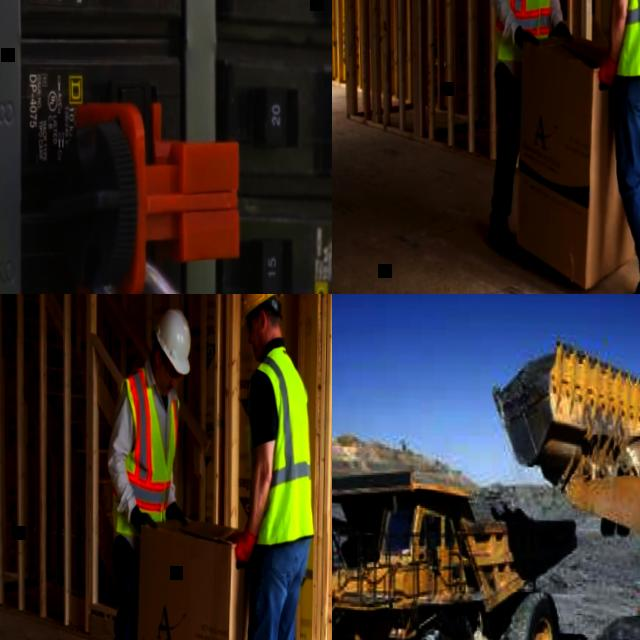Hardhat: (155, 307, 192, 373), (239, 294, 282, 321)
NO-Mask: (248, 332, 263, 361), (158, 378, 168, 398)
Person: (228, 294, 320, 640), (98, 305, 189, 640), (482, 0, 576, 249), (591, 0, 640, 294)
Safety Vest: (243, 351, 319, 549), (106, 360, 180, 550), (490, 0, 557, 62), (602, 0, 640, 75)
vehicle: (481, 332, 640, 640), (332, 450, 580, 640)
